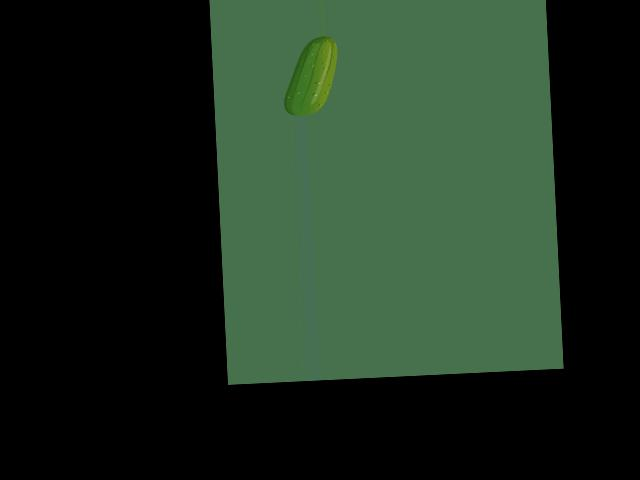cucumber: (280, 35, 340, 116)
